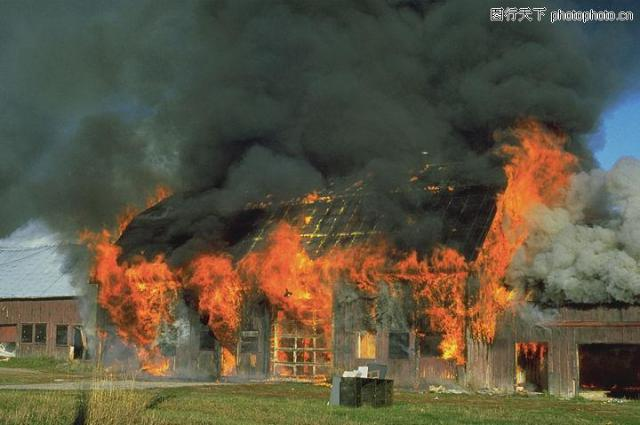fire: (501, 137, 573, 206), (236, 253, 330, 289), (116, 262, 170, 320), (414, 282, 462, 331), (389, 250, 467, 280), (204, 275, 236, 339), (269, 289, 331, 321), (469, 278, 498, 338), (476, 233, 510, 277), (264, 225, 304, 254), (190, 255, 230, 283), (91, 233, 115, 278), (354, 256, 386, 287), (138, 350, 166, 377), (492, 207, 520, 232), (439, 332, 465, 358), (124, 323, 152, 347), (330, 243, 356, 267), (98, 276, 114, 306), (220, 346, 237, 374), (516, 341, 544, 357), (300, 191, 316, 202)
